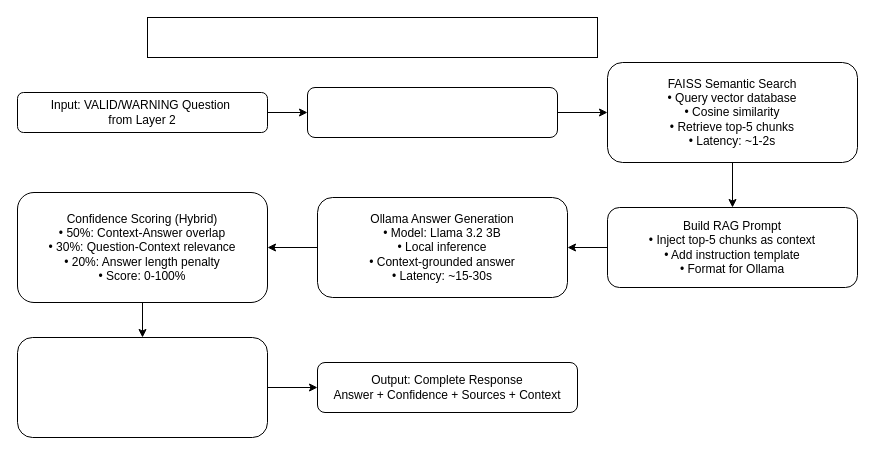
Some shapes in this 875 by 455 pixel diagram are drawn without their labels. The shapes that lost their labels are listed below. From the top down, each one's centre as x and y in pixels, then its label:
point (372, 37): MODULE 6: ANSWER GENERATION & CONFIDENCE SCORING
point (432, 112): Embed Question sentence-transformers (384-dim)
point (142, 387): Format Response • Answer text • Confidence score • Source PDFs • Context chunks
